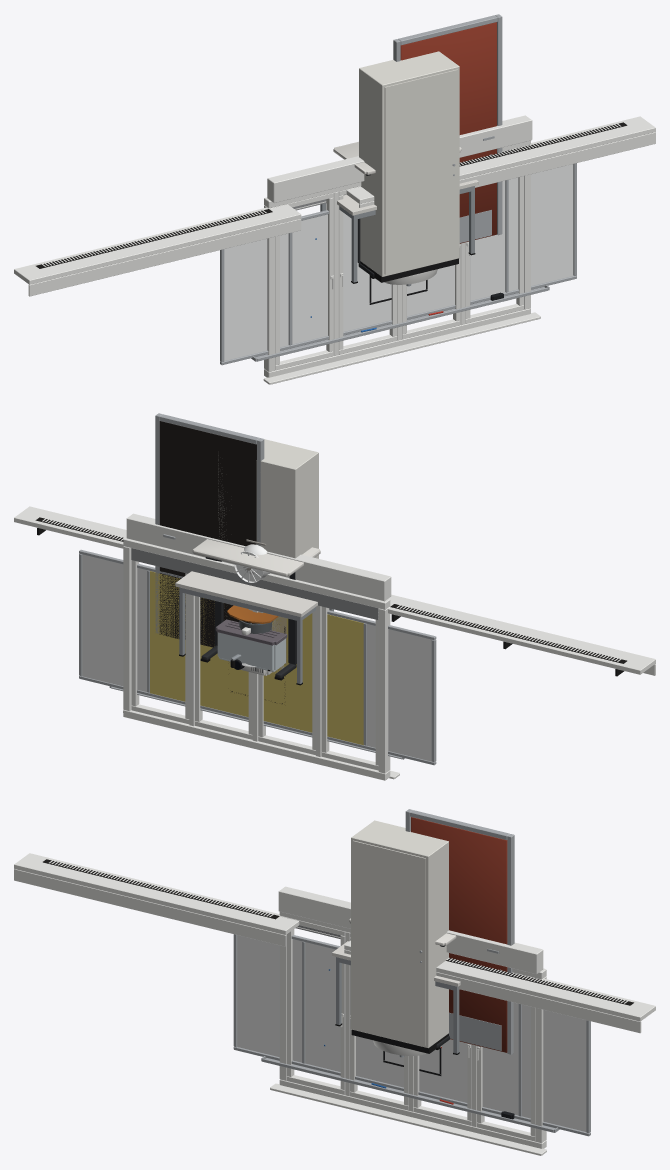
File: classroom-furniture.glb
The picture shows the model from 3 angles, top to bottom: view 1: azimuth 30°, elevation 25°; view 2: azimuth 150°, elevation 25°; view 3: azimuth 330°, elevation 25°; orthographic projection.
Visible parts, largest first — view 1: whiteboard.root.board_white, cabinet.root.cabinet_white, window.root.white_paint, radiator.root.white_paint, door.leaf.pbr:door, whiteboard.root.pbr:metal:alu, door.root.pbr:metal:alu, radiator.root.radiator_dark, table.root.pbr:metal:chrome, pinboard.root.pbr:metal:alu, door.leaf.pbr:metal:alu, cabinet.root.cabinet_plinth (+1 smaller); view 2: window.root.white_paint, pinboard.root.pin_yellow, whiteboard.root.board_white, door.root.door_recess, radiator.root.white_paint, cabinet.root.cabinet_white, whiteboard.root.pbr:metal:alu, table.root.pbr:table, window.root.blind_grey, door.root.pbr:metal:alu, desk.root.pbr:table, storagebox.root.bin_clear (+7 smaller); view 3: whiteboard.root.board_white, cabinet.root.cabinet_white, window.root.white_paint, radiator.root.white_paint, door.leaf.pbr:door, whiteboard.root.pbr:metal:alu, door.root.pbr:metal:alu, radiator.root.radiator_dark, door.leaf.pbr:metal:alu, pinboard.root.pbr:metal:alu, table.root.pbr:metal:chrome, cabinet.root.cabinet_plinth.
Boxes of the visible parts, box(x1,y1,x2,y2) form: whiteboard.root.board_white: box(224, 164, 573, 360); cabinet.root.cabinet_white: box(359, 51, 459, 276); window.root.white_paint: box(263, 115, 540, 384); radiator.root.white_paint: box(14, 116, 655, 296); door.leaf.pbr:door: box(400, 22, 496, 243); whiteboard.root.pbr:metal:alu: box(220, 163, 576, 365); door.root.pbr:metal:alu: box(393, 14, 502, 235); radiator.root.radiator_dark: box(36, 122, 627, 268); table.root.pbr:metal:chrome: box(320, 186, 474, 282); pinboard.root.pbr:metal:alu: box(288, 180, 508, 345); door.leaf.pbr:metal:alu: box(459, 136, 494, 242); cabinet.root.cabinet_plinth: box(360, 258, 458, 282); window.root.white_paint: box(123, 513, 399, 780); pinboard.root.pin_yellow: box(150, 571, 363, 745); whiteboard.root.board_white: box(82, 554, 431, 761); door.root.door_recess: box(159, 421, 256, 647); radiator.root.white_paint: box(14, 506, 655, 675); cabinet.root.cabinet_white: box(218, 439, 318, 608); whiteboard.root.pbr:metal:alu: box(79, 549, 436, 765); table.root.pbr:table: box(175, 571, 317, 616); window.root.blind_grey: box(131, 548, 378, 619); door.root.pbr:metal:alu: box(155, 413, 264, 633); desk.root.pbr:table: box(192, 539, 320, 576); storagebox.root.bin_clear: box(217, 632, 285, 672); whiteboard.root.board_white: box(237, 935, 586, 1131); cabinet.root.cabinet_white: box(351, 820, 448, 1048); window.root.white_paint: box(270, 886, 546, 1155); radiator.root.white_paint: box(14, 853, 655, 1033); door.leaf.pbr:door: box(411, 817, 507, 1052); whiteboard.root.pbr:metal:alu: box(233, 934, 590, 1136); door.root.pbr:metal:alu: box(405, 809, 514, 1054); radiator.root.radiator_dark: box(43, 859, 633, 1005); door.leaf.pbr:metal:alu: box(449, 948, 501, 1050); pinboard.root.pbr:metal:alu: box(302, 937, 521, 1116); table.root.pbr:metal:chrome: box(336, 957, 459, 1053); cabinet.root.cabinet_plinth: box(351, 1029, 448, 1053).
Bounding box in the file's own units: 6.45 × 3.02 × 0.765.
